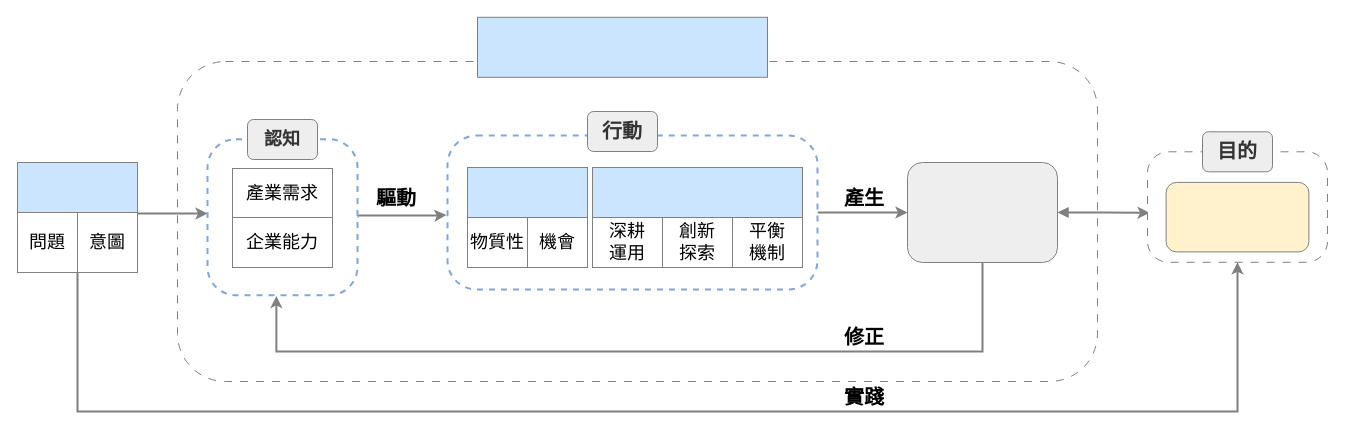
This 1345x438 diagram has some shape labels left out. The shapes that lost their labels are listed below. From the top down, each one's centre as x and y in pixels, then its label:
At point (622, 46): "科技可供性制定".
At point (77, 187): "能動性".
At point (527, 192): "探索 可供性".
At point (697, 192): "雙元 可供性實現".
At point (982, 212): "階段性 數位創新 結果".
At point (1237, 216): "數位紡織 產業生態系".
